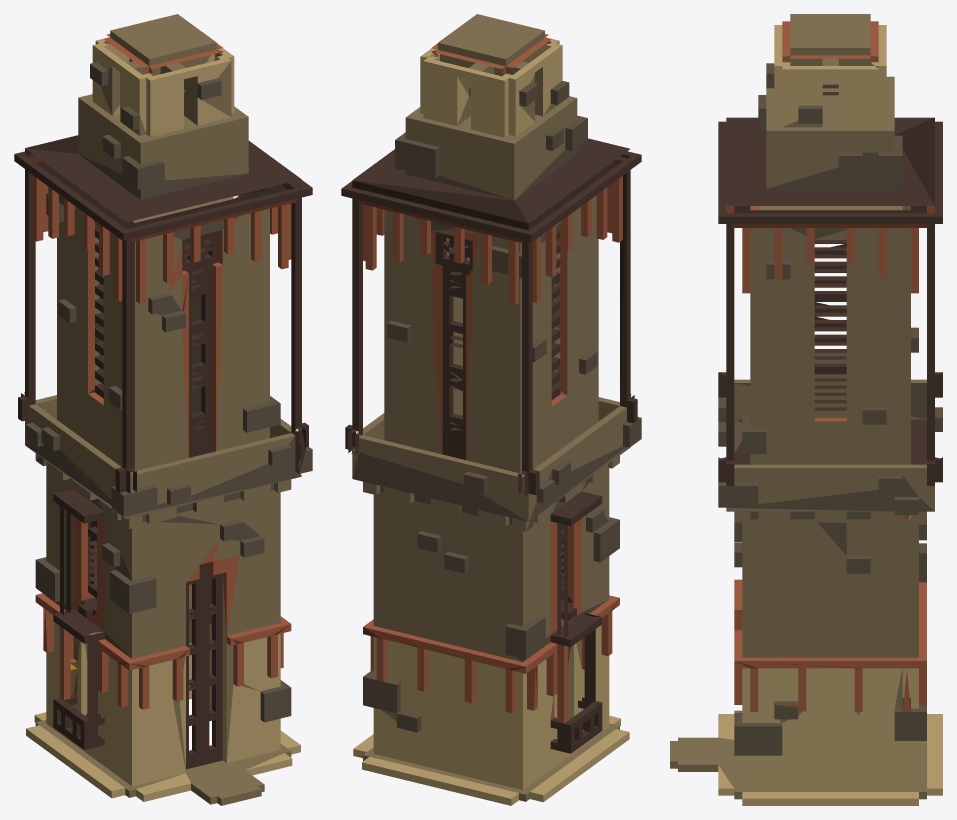
The model's file is tallBuilding_02.obj.
3 views of the same model, side by side, from view 1: azimuth 30°, elevation 25°; view 2: azimuth 150°, elevation 25°; view 3: azimuth 270°, elevation 25° (orthographic). The views are drawn at different scales.
Parts seen in each view (by area): view 1: Untitled; view 2: Untitled; view 3: Untitled.
Boxes of the visible parts, box(x1,y1,x2,y2) form: Untitled: box(14, 14, 312, 805); Untitled: box(341, 14, 641, 805); Untitled: box(670, 14, 942, 805).
Size of the model in its own units: 2.8 by 10 by 3.4.
